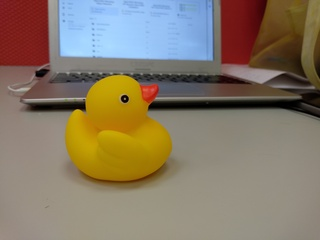duck: (58, 70, 182, 188)
